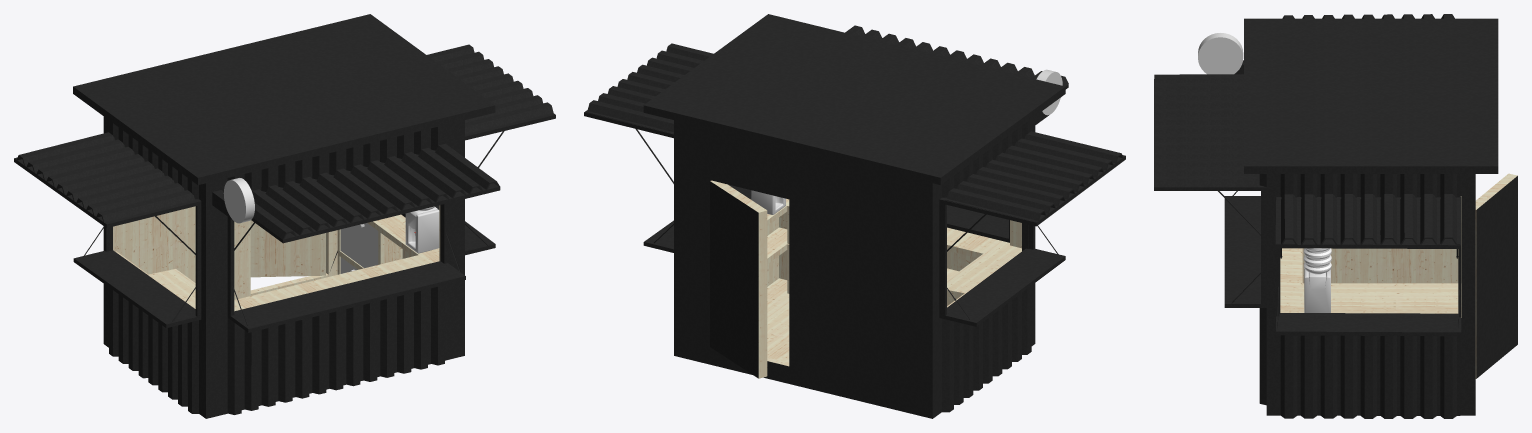
File: drink_booth.glb
3 views of the same model, side by side, from view 1: azimuth 30°, elevation 25°; view 2: azimuth 150°, elevation 25°; view 3: azimuth 270°, elevation 25° (orthographic).
Visible parts, largest first — view 1: BOOT_0, water dispenser_1; view 2: BOOT_0, water dispenser_1; view 3: BOOT_0, water dispenser_1, water gallon_2.
Part boxes in pixels (left/top/right/bottom): BOOT_0: left=14, top=14, right=555, bottom=418; water dispenser_1: left=405, top=207, right=439, bottom=253; BOOT_0: left=584, top=14, right=1125, bottom=418; water dispenser_1: left=751, top=190, right=785, bottom=214; BOOT_0: left=1154, top=14, right=1517, bottom=418; water dispenser_1: left=1304, top=268, right=1330, bottom=312; water gallon_2: left=1303, top=248, right=1331, bottom=274.
Bounding box in the file's own units: 4.92 × 2.64 × 3.37.
8 materials, 2 textured.
